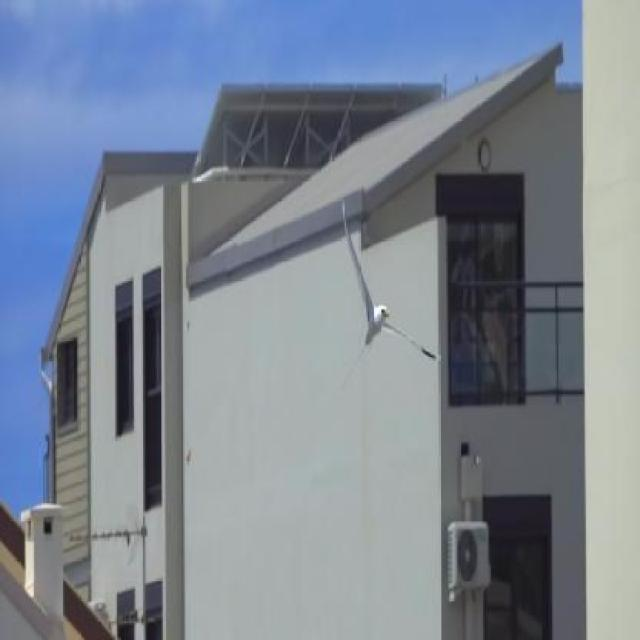bird: (331, 193, 447, 381)
